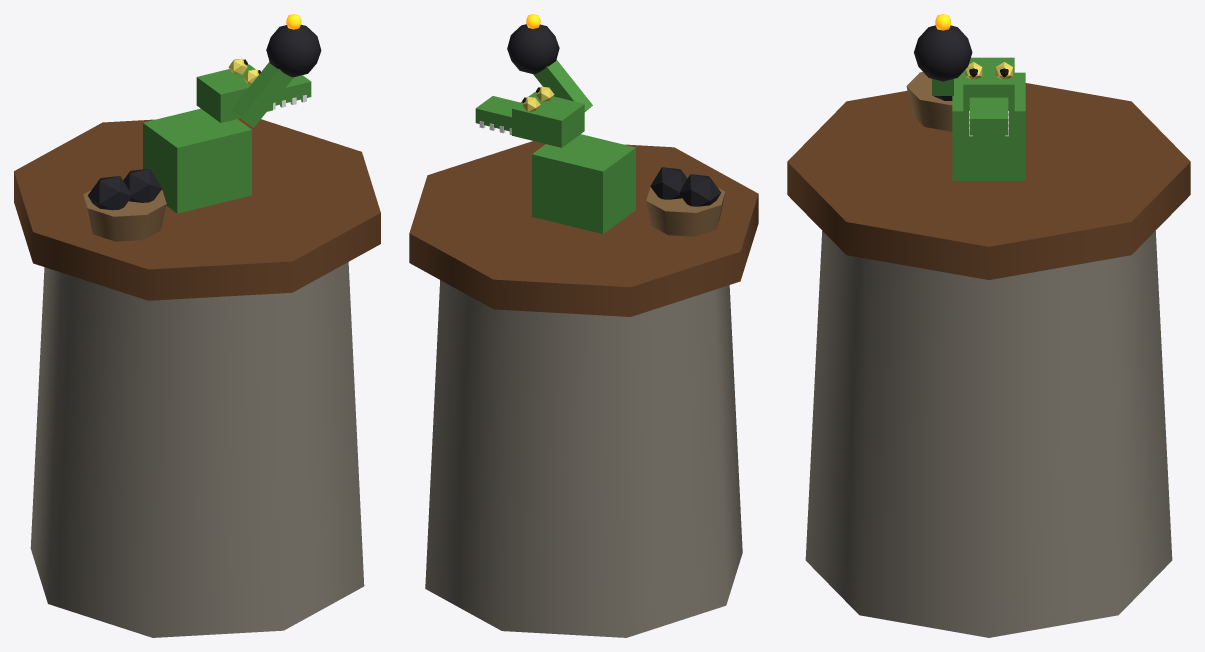
The model's file is level1.glb.
3 renders of one model, left to right at view 1: azimuth 30°, elevation 25°; view 2: azimuth 150°, elevation 25°; view 3: azimuth 270°, elevation 25°, orthographic. The views are drawn at different scales.
Visible parts, largest first — view 1: object 1, object 2, turret, object 4, object 5, object 6; view 2: object 1, object 2, turret, object 4, object 5, object 6; view 3: object 1, object 2, turret, object 4.
Part boxes in pixels (bbox=[...]): object 1: bbox=[30, 262, 364, 637]; object 2: bbox=[14, 118, 380, 300]; turret: bbox=[143, 14, 321, 213]; object 4: bbox=[83, 190, 166, 241]; object 5: bbox=[88, 176, 131, 210]; object 6: bbox=[123, 168, 162, 202]; object 1: bbox=[425, 280, 742, 637]; object 2: bbox=[409, 141, 758, 316]; turret: bbox=[475, 14, 635, 233]; object 4: bbox=[646, 187, 725, 236]; object 5: bbox=[680, 174, 721, 206]; object 6: bbox=[650, 167, 687, 199]; object 1: bbox=[805, 231, 1172, 637]; object 2: bbox=[787, 83, 1190, 279]; turret: bbox=[914, 14, 1025, 180]; object 4: bbox=[906, 72, 952, 131].
Bounding box in the file's own units: 2.2 × 3.52 × 2.2.
